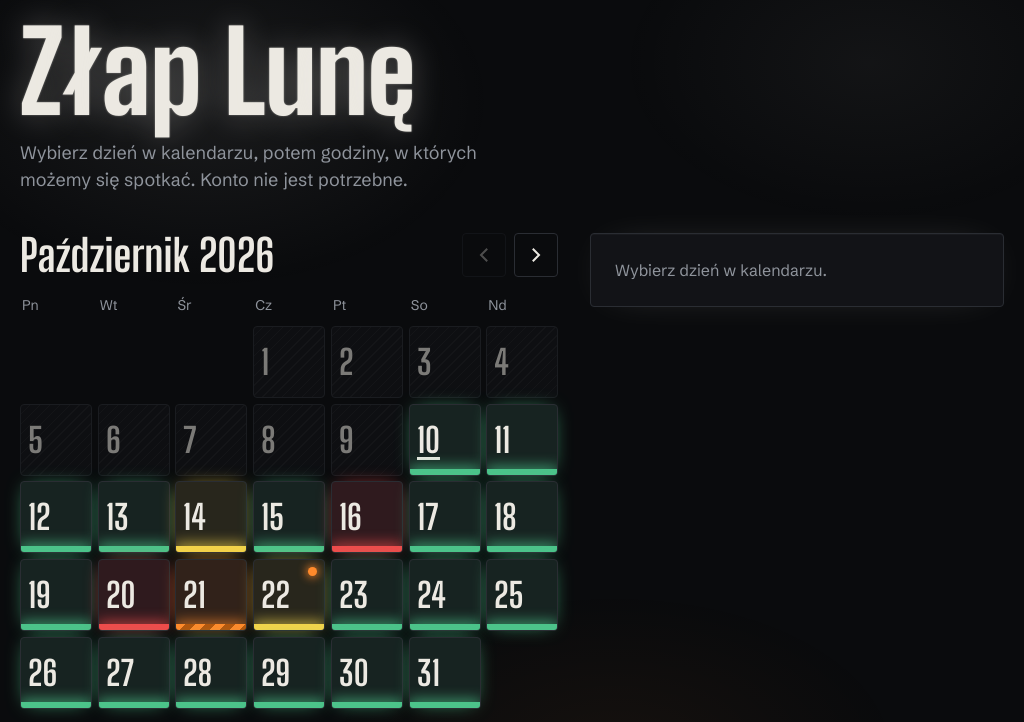
Test: strona publiczna › oczekujący termin: pomarańczowe pole i informacja, bez imion
Click the button "21". click: (211, 595)
box: [175, 559, 247, 631]
(page scrolled)
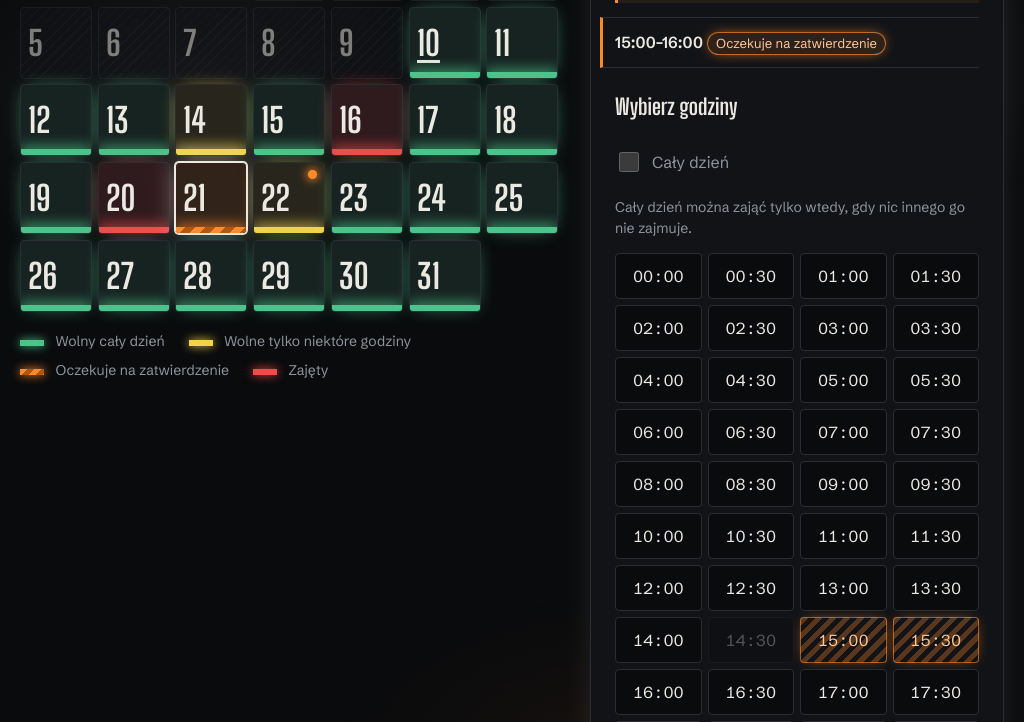
Expected: the list item "Oczekuje na zatwierdzenie" is shown, [20, 360, 229, 382]
Expected: the button named "15:00, oczekuje na zatwierdzenie" is disabled, [800, 617, 886, 663]
